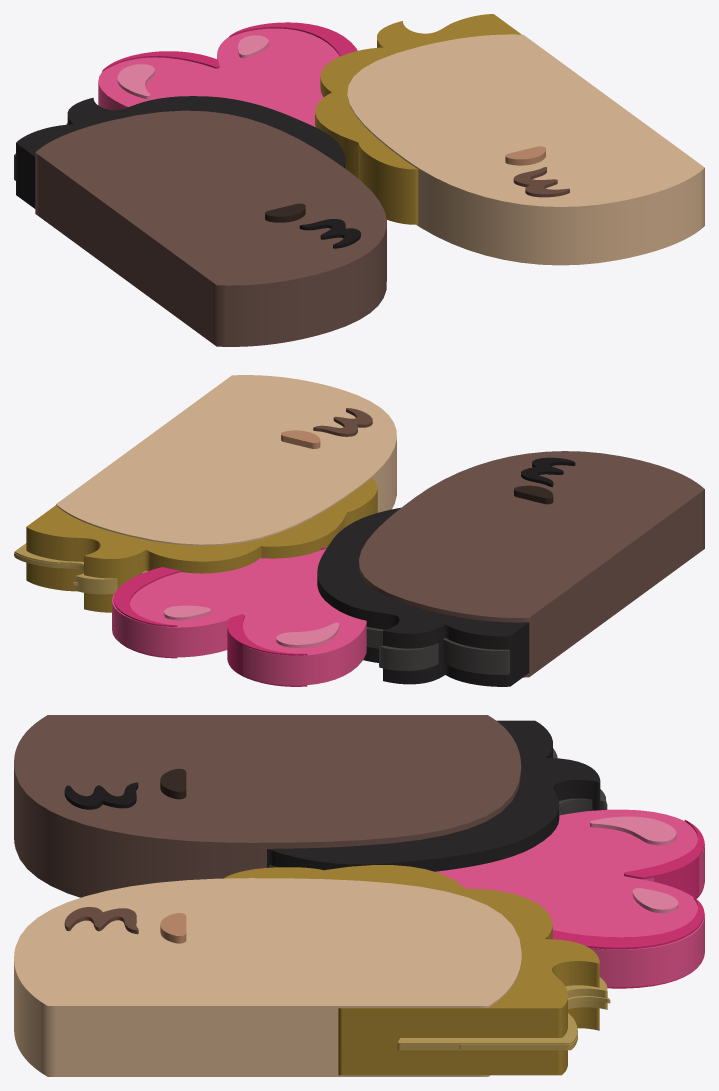
File: emoji_u1f9d1_1f3ff_200d_2764_200d_1f48b_200d_1f9d1_1f3fc.glb
3 renders of one model, top to bottom at view 1: azimuth 30°, elevation 25°; view 2: azimuth 150°, elevation 25°; view 3: azimuth 270°, elevation 25°, orthographic. The views are drawn at different scales.
Parts seen in each view (by area): view 1: emoji_u1f9d1_1f3ff_200d_2764_200d_1f48b_200d_1f9d1_1f3fc; view 2: emoji_u1f9d1_1f3ff_200d_2764_200d_1f48b_200d_1f9d1_1f3fc; view 3: emoji_u1f9d1_1f3ff_200d_2764_200d_1f48b_200d_1f9d1_1f3fc.
Part boxes in pixels (x1,y1,x2,y2): emoji_u1f9d1_1f3ff_200d_2764_200d_1f48b_200d_1f9d1_1f3fc: (14, 14, 704, 346); emoji_u1f9d1_1f3ff_200d_2764_200d_1f48b_200d_1f9d1_1f3fc: (14, 375, 704, 686); emoji_u1f9d1_1f3ff_200d_2764_200d_1f48b_200d_1f9d1_1f3fc: (14, 715, 704, 1076).
Bounding box in the file's own units: 0.0339 × 0.0048 × 0.0336.
